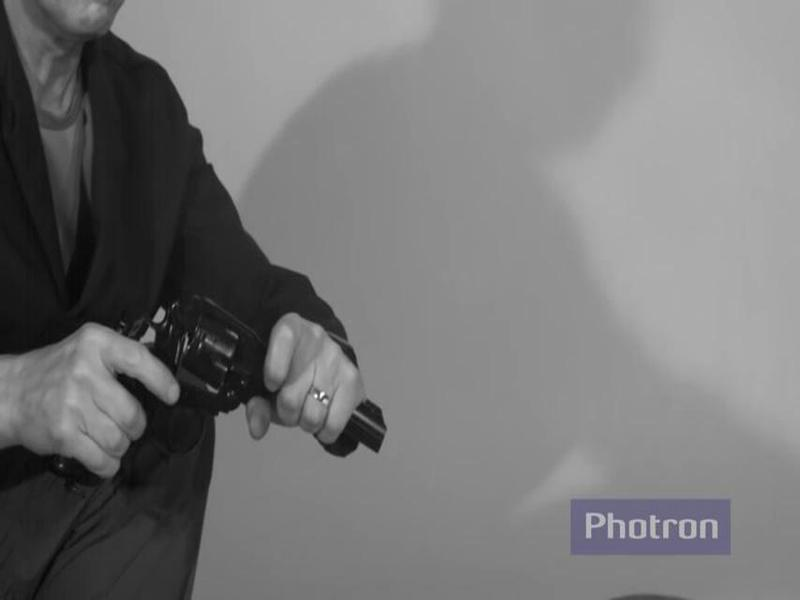Revolver: (37, 272, 407, 507)
